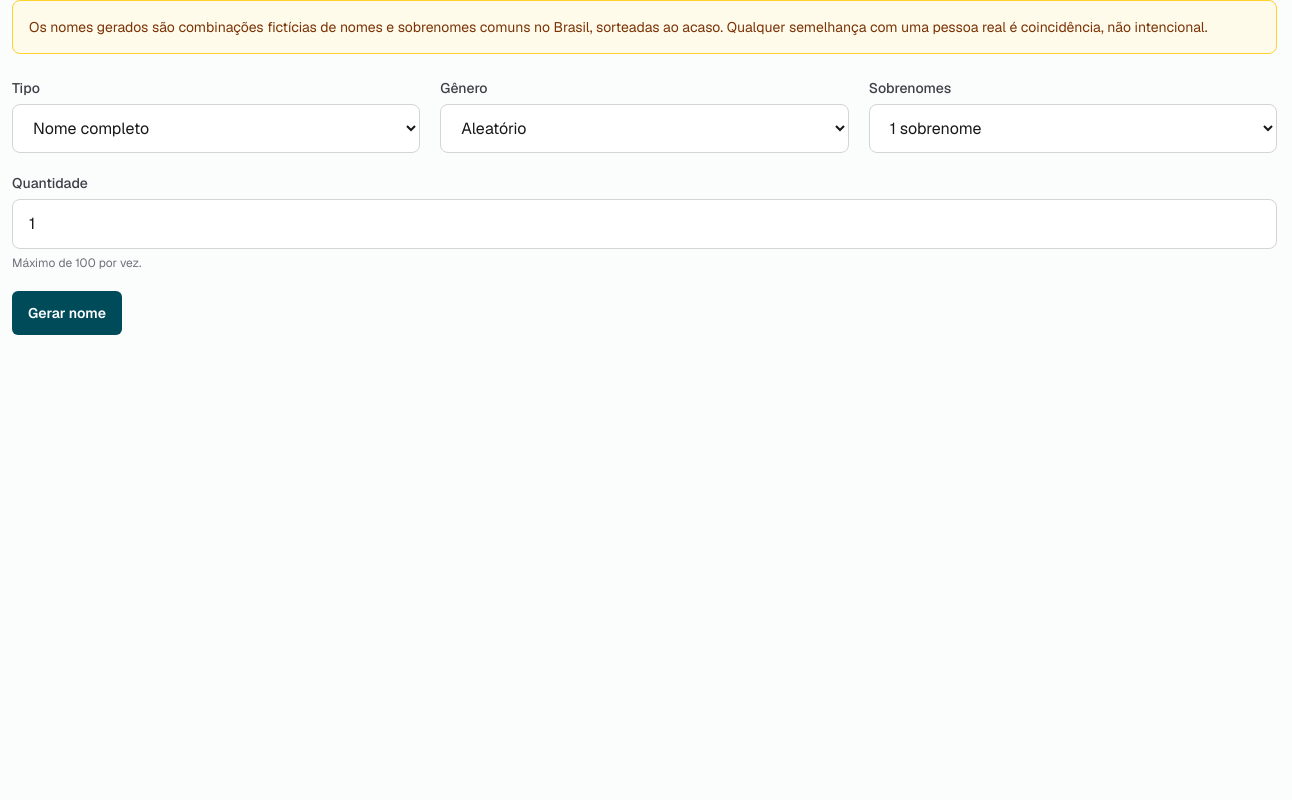
NameGeneratorTool › gera um lote e permite copiar todos
Type "5" into the field labelled "Quantidade" at (644, 224), box [12,199,1277,249]
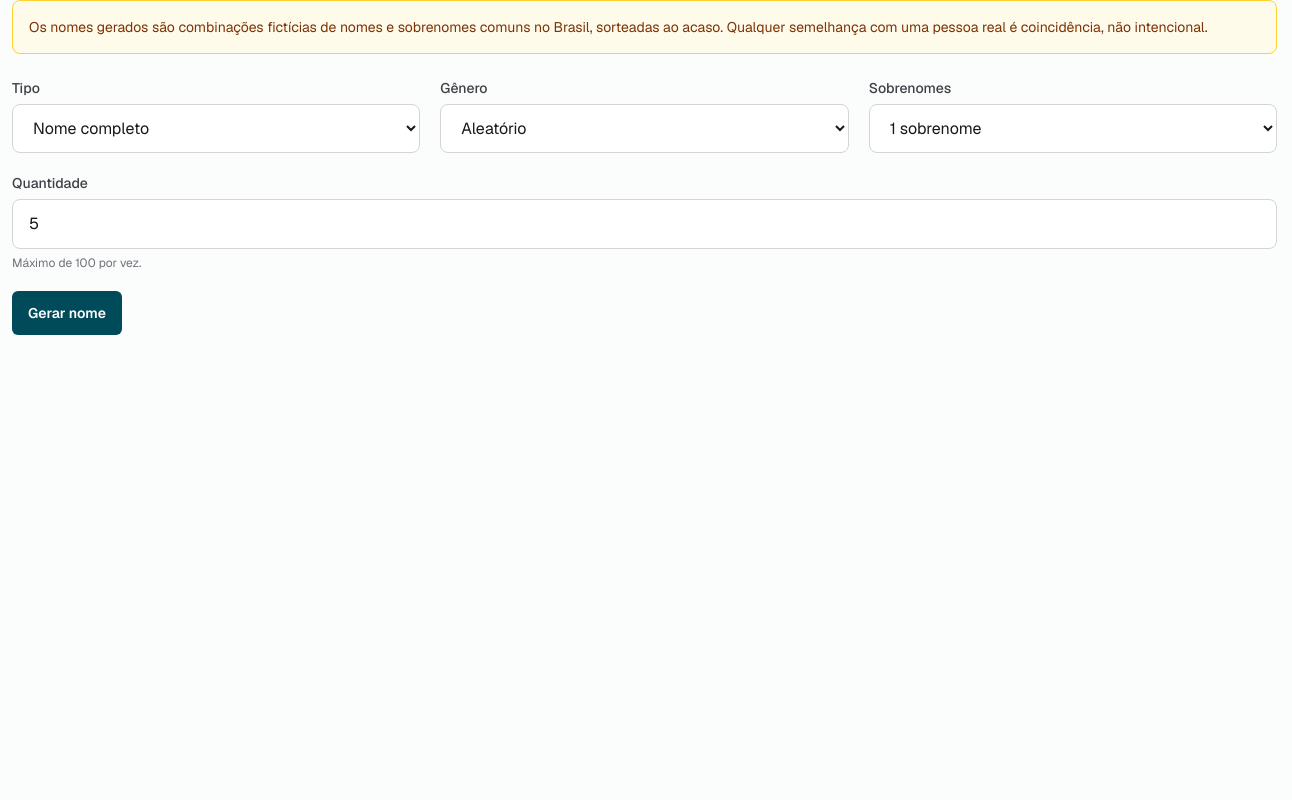
Click the button "Gerar nome" at (67, 313), box [12,291,122,335]
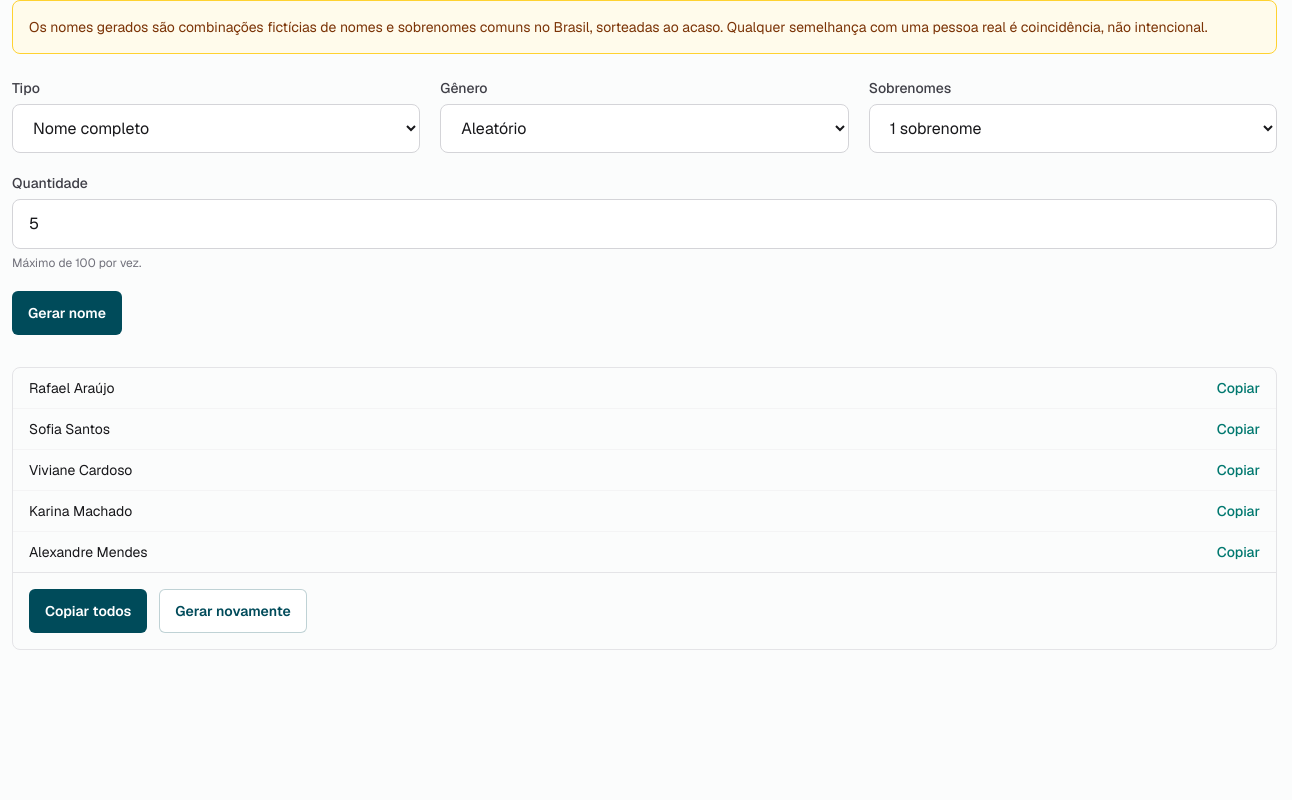
Expected: the number of list items is 5, [13,368,1276,409]; [13,409,1276,450]; [13,450,1276,491]; [13,491,1276,532]; [29,542,1260,562]
Click the button "Copiar todos" at (88, 611), box [29,589,147,633]
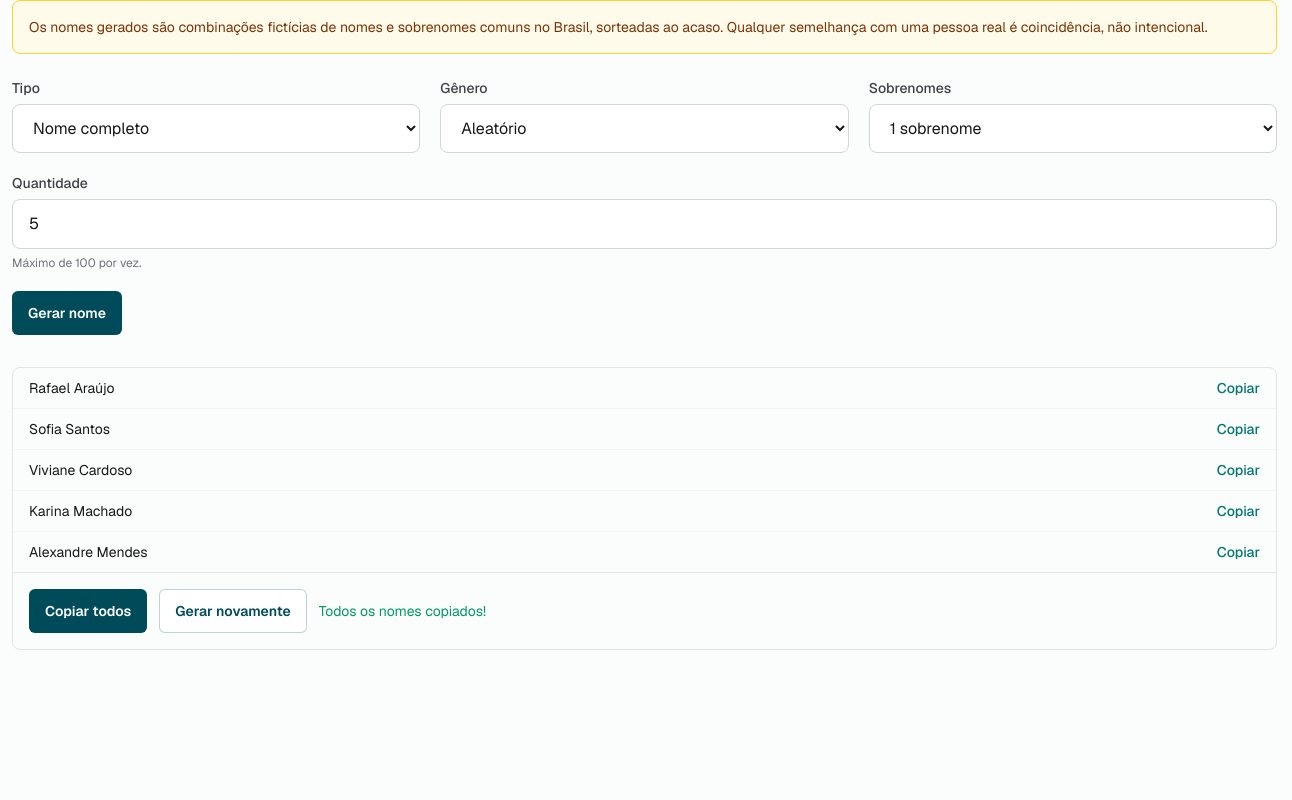
Expected: the message reads "Todos os nomes copiados!", [319,602,486,620]
